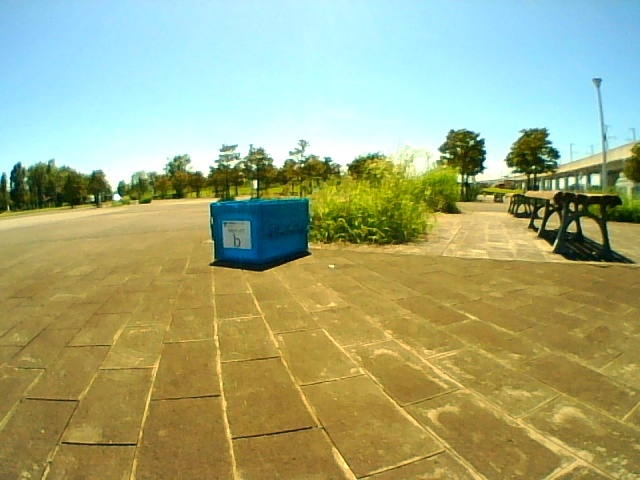blue_box: (214, 200, 308, 259)
tag_b: (222, 222, 249, 249)
